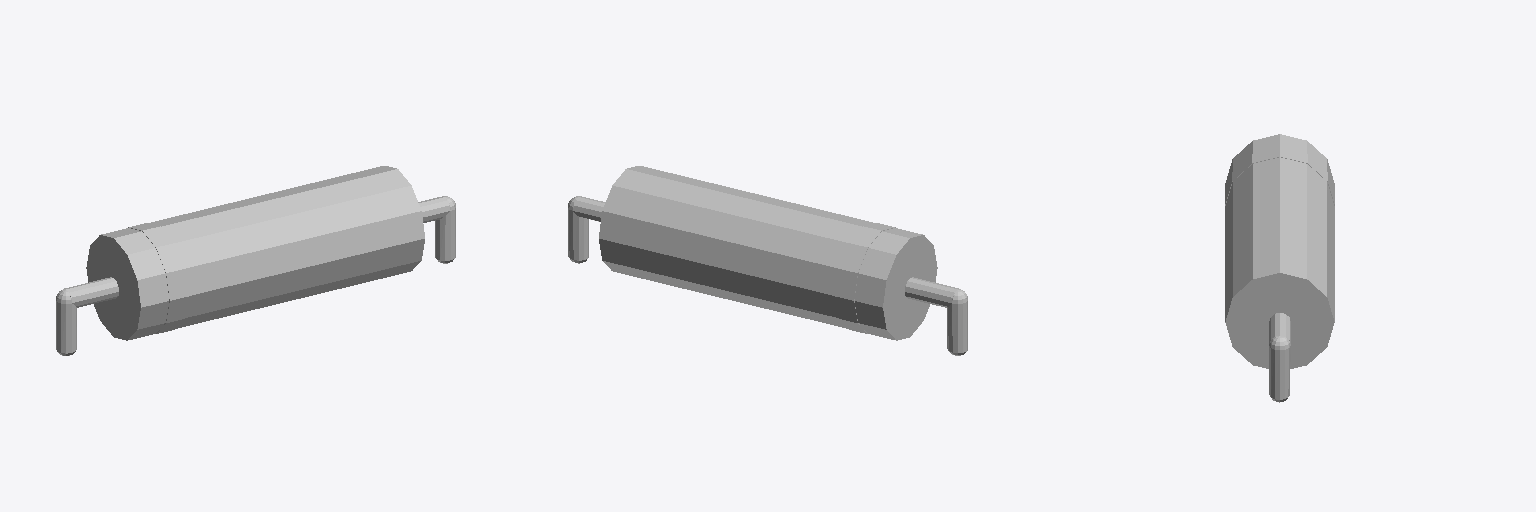
Rendered from diode_B.obj.
3 views of the same model, side by side, from view 1: azimuth 30°, elevation 25°; view 2: azimuth 150°, elevation 25°; view 3: azimuth 270°, elevation 25° (orthographic).
Parts seen in each view (by area): view 1: mesh01, mesh03, mesh02; view 2: mesh01, mesh03, mesh02; view 3: mesh01, mesh02.
Boxes of the visible parts, x1=… form: mesh01: x1=64, y1=166, x2=450, y2=340; mesh03: x1=56, y1=289, x2=76, y2=355; mesh02: x1=435, y1=196, x2=455, y2=263; mesh01: x1=573, y1=166, x2=958, y2=340; mesh03: x1=947, y1=289, x2=967, y2=355; mesh02: x1=568, y1=196, x2=588, y2=263; mesh01: x1=1225, y1=134, x2=1334, y2=368; mesh02: x1=1269, y1=336, x2=1290, y2=402.
Size of the model in its own units: 4.2 by 1.07 by 1.01.